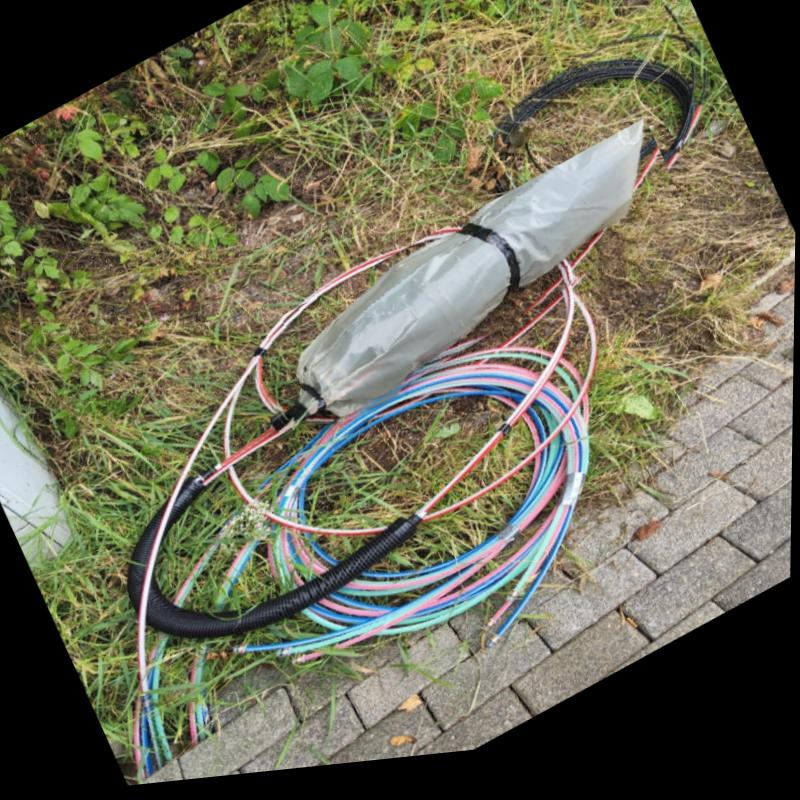NT-Muffen: (277, 132, 648, 436)
